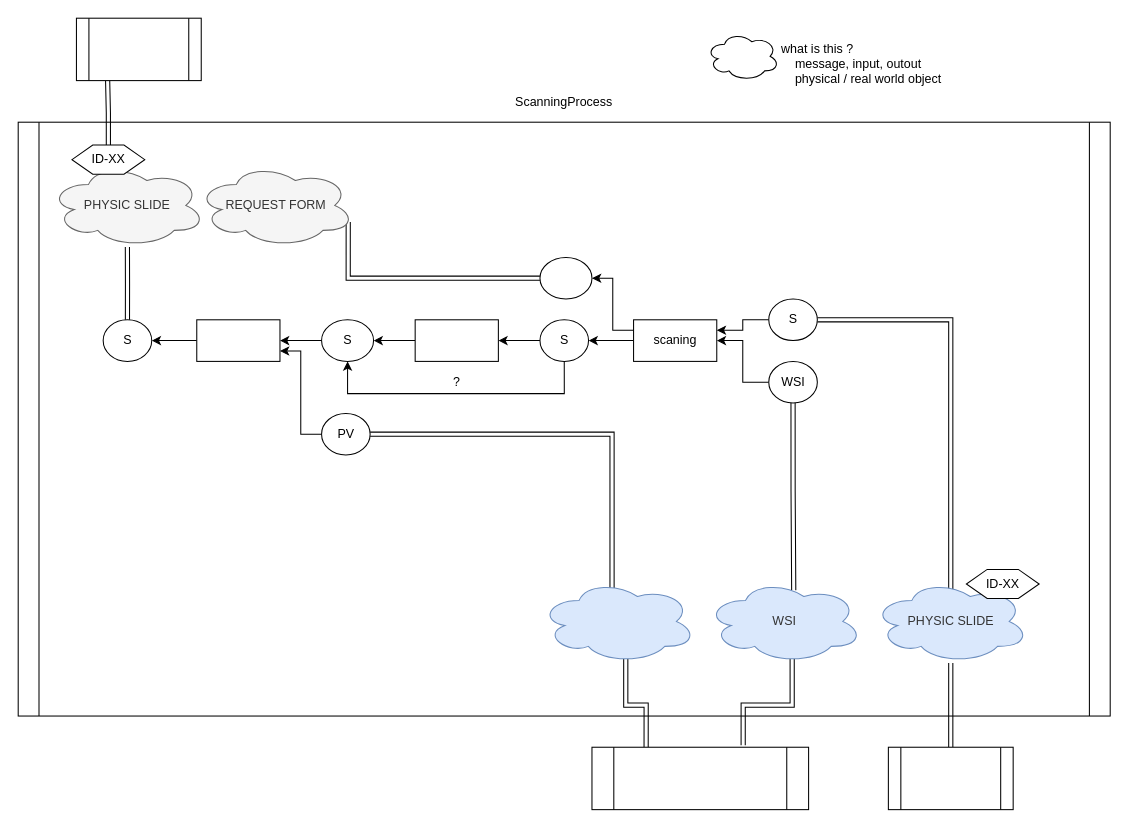
This 1128x828 diagram has some shape labels left out. The centre of each missing label's shape, as x and y in pixels:
"cleaning" belongs at (456,340).
"DATA STORAGE" belongs at (700,778).
"PREVIEW PICT" belongs at (617,621).
"receivment" belongs at (238,340).
"REQ" belongs at (565,277).
"SLIDE DEL" belongs at (138,49).
"SLIDE REC" belongs at (950,778).
